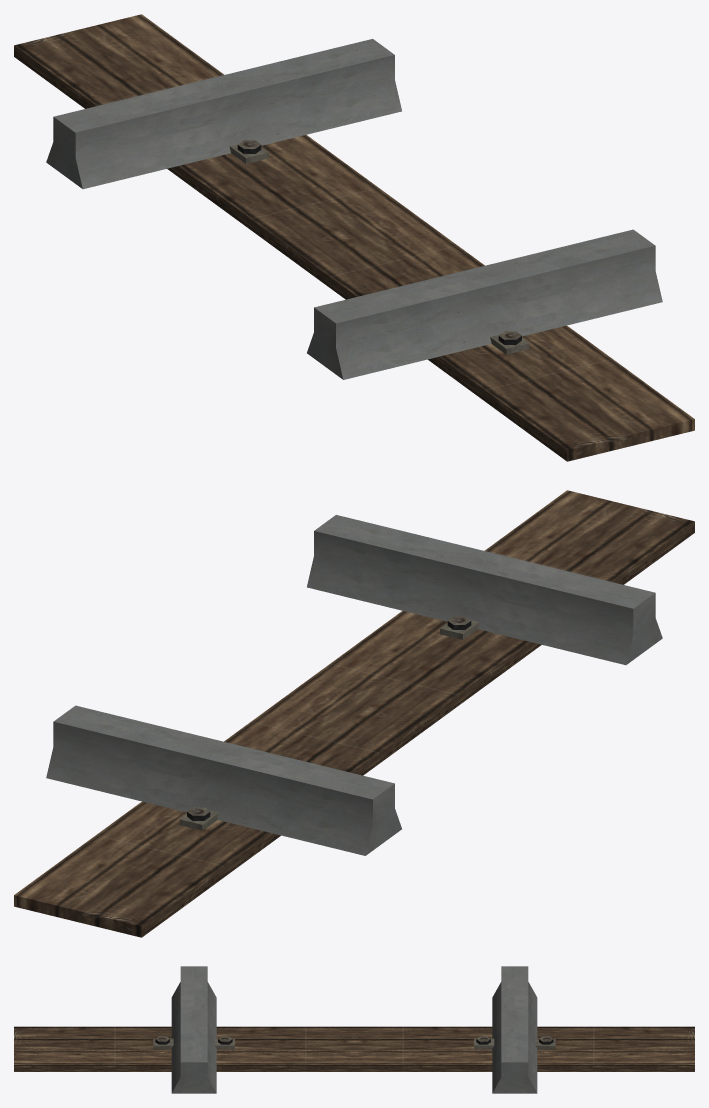
The model's file is trilho-1.fbx.
3 views of the same model, one above another, from view 1: azimuth 30°, elevation 25°; view 2: azimuth 150°, elevation 25°; view 3: azimuth 270°, elevation 25° (orthographic). The views are drawn at different scales.
Parts seen in each view (by area): view 1: Cube.005; view 2: Cube.005; view 3: Cube.005.
Boxes of the visible parts, bbox=[...] form: Cube.005: bbox=[14, 14, 694, 461]; Cube.005: bbox=[14, 490, 694, 937]; Cube.005: bbox=[14, 966, 694, 1093].
Bounding box in the file's own units: 1 × 0.1871 × 3.
Materials: 1 (1 with a texture image).
